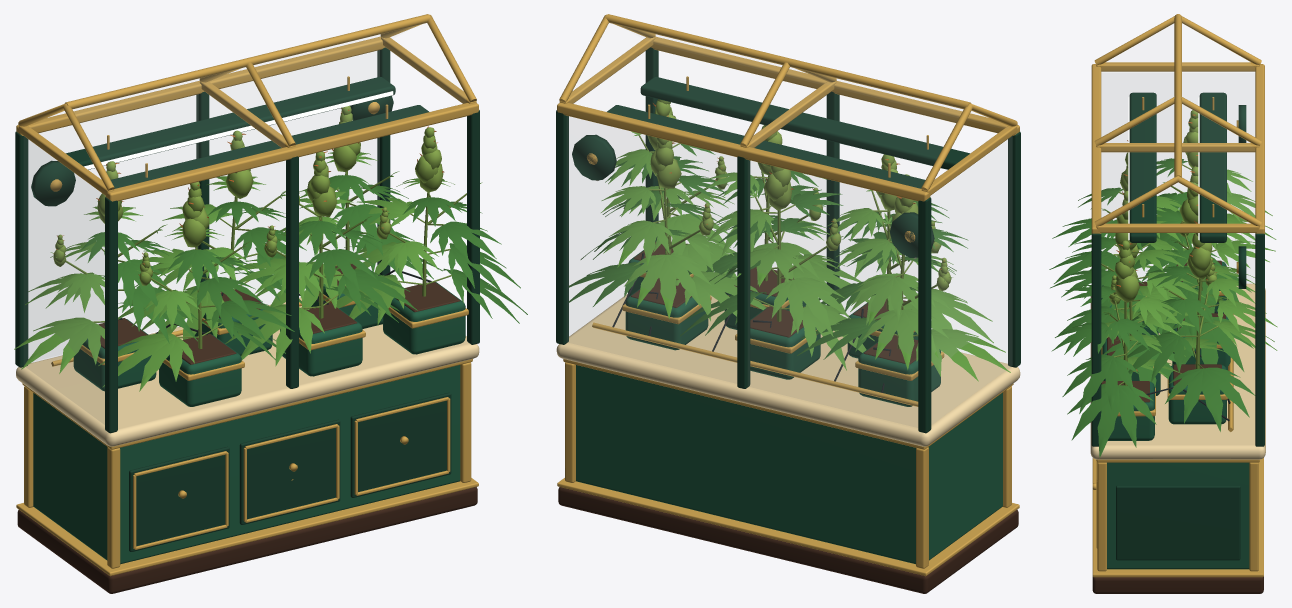
The model's file is grow_bench_tier5.glb.
The picture shows the model from 3 angles, left to right: view 1: azimuth 30°, elevation 25°; view 2: azimuth 150°, elevation 25°; view 3: azimuth 270°, elevation 25°; orthographic projection. The views are drawn at different scales.
Parts seen in each view (by area): view 1: Body, GlassEnd, Top, GlassBack, Plinth, Panel2, Panel1, Panel0, LedBar1, Eave-0.42, PlinthBrass, Eave0.42 (+60 smaller); view 2: GlassBack, Body, Top, GlassEnd, Plinth, LedBar0, Eave0.42, PlinthBrass, Eave-0.42, Ridge, FramePost-0.980.42, FramePost0.000.42 (+48 smaller); view 3: EndPanel, Top, Body, LedBar1, LedBar0, Plinth, PlinthBrass, P2Leaf00, P5Leaf00, FramePost0.980.42, FramePost0.98-0.42, P5Leaf13 (+51 smaller).
Boxes of the visible parts, x1=… form: Body: x1=33, y1=365, x2=460, y2=564; GlassEnd: x1=24, y1=137, x2=104, y2=423; Top: x1=16, y1=297, x2=479, y2=446; GlassBack: x1=40, y1=126, x2=379, y2=332; Plinth: x1=17, y1=487, x2=477, y2=593; Panel2: x1=350, y1=392, x2=451, y2=497; Panel1: x1=239, y1=419, x2=340, y2=524; Panel0: x1=129, y1=446, x2=229, y2=551; LedBar1: x1=66, y1=77, x2=395, y2=169; Eave-0.42: x1=105, y1=102, x2=478, y2=201; PlinthBrass: x1=16, y1=478, x2=478, y2=576; Eave0.42: x1=16, y1=36, x2=385, y2=135; GlassBack: x1=567, y1=116, x2=917, y2=427; Body: x1=576, y1=365, x2=1002, y2=564; Top: x1=556, y1=294, x2=1020, y2=446; GlassEnd: x1=931, y1=137, x2=1011, y2=423; Plinth: x1=558, y1=487, x2=1018, y2=593; LedBar0: x1=640, y1=76, x2=969, y2=169; Eave0.42: x1=557, y1=102, x2=930, y2=201; PlinthBrass: x1=557, y1=478, x2=1019, y2=576; Eave-0.42: x1=650, y1=36, x2=1019, y2=135; Ridge: x1=605, y1=14, x2=971, y2=109; FramePost-0.980.42: x1=918, y1=197, x2=931, y2=433; FramePost0.000.42: x1=737, y1=156, x2=750, y2=388; EndPanel: x1=1116, y1=485, x2=1240, y2=560; Top: x1=1090, y1=283, x2=1265, y2=459; Body: x1=1107, y1=462, x2=1249, y2=569; LedBar1: x1=1199, y1=92, x2=1226, y2=242; LedBar0: x1=1129, y1=92, x2=1156, y2=242; Plinth: x1=1092, y1=576, x2=1263, y2=593; PlinthBrass: x1=1092, y1=458, x2=1263, y2=577; P2Leaf00: x1=1165, y1=367, x2=1255, y2=431; P5Leaf00: x1=1067, y1=383, x2=1156, y2=457; FramePost0.980.42: x1=1255, y1=233, x2=1264, y2=446; FramePost0.98-0.42: x1=1091, y1=233, x2=1101, y2=446; P5Leaf13: x1=1062, y1=354, x2=1138, y2=413.
Bounding box in the file's own units: 2.5 × 2.37 × 1.17.
